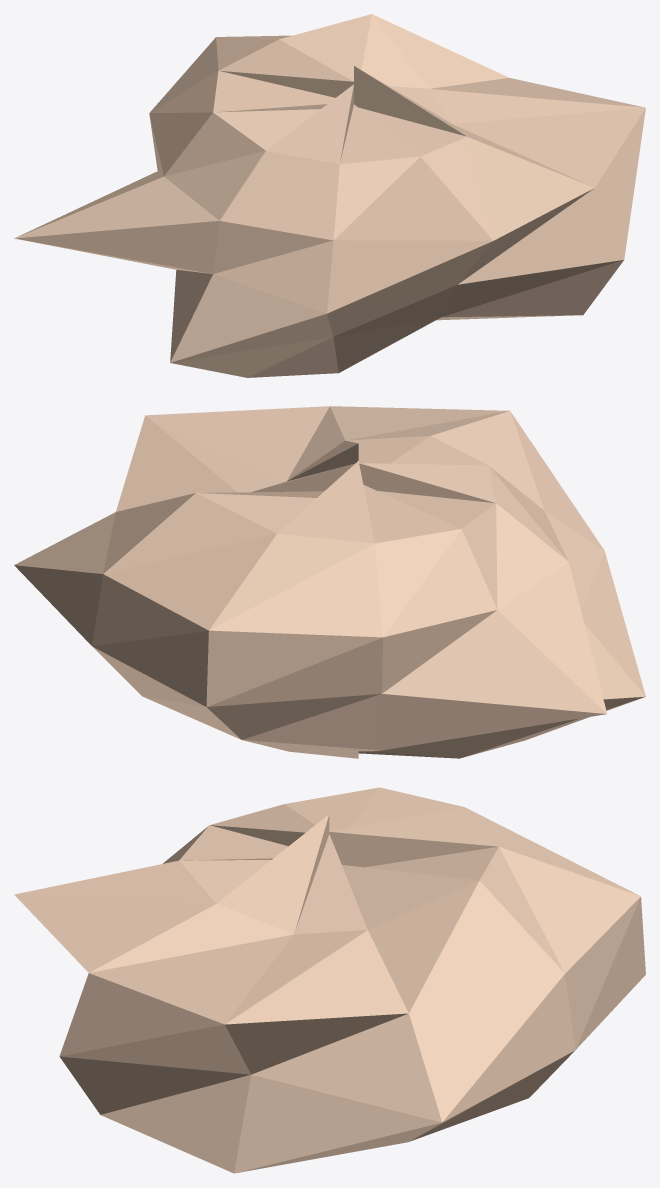
File: rock_032.obj
The picture shows the model from 3 angles, top to bottom: view 1: azimuth 30°, elevation 25°; view 2: azimuth 150°, elevation 25°; view 3: azimuth 270°, elevation 25°; orthographic projection. The views are drawn at different scales.
Size of the model in its own units: 0.7847 by 0.3958 by 0.6869.
